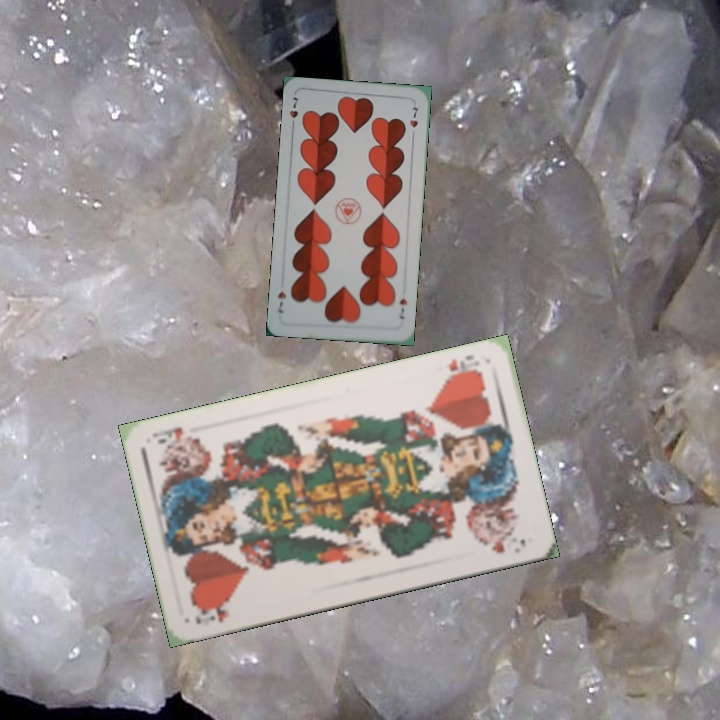H7: (285, 93, 301, 132), (395, 295, 409, 321)
HO: (441, 350, 484, 383), (191, 597, 233, 629)
